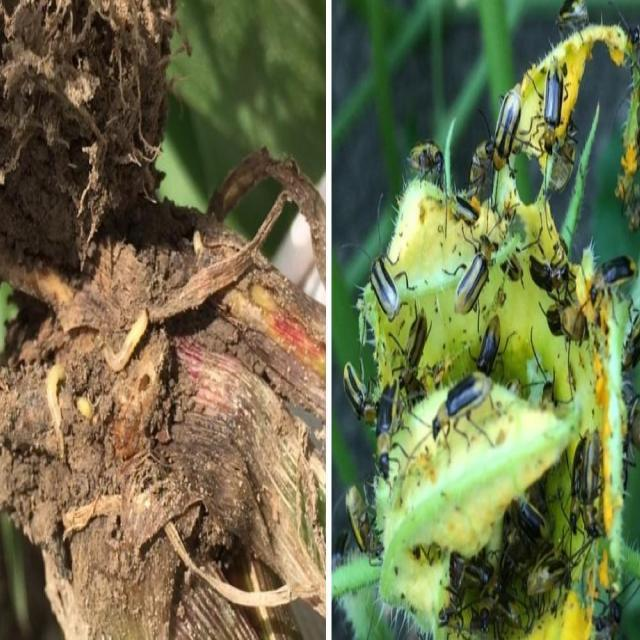trips: (530, 52, 578, 162), (432, 370, 495, 448), (356, 243, 414, 323), (373, 370, 405, 494), (342, 484, 386, 574), (392, 306, 438, 388), (452, 232, 496, 316), (337, 358, 383, 431), (490, 87, 522, 175), (527, 552, 584, 601), (448, 538, 499, 592), (588, 252, 640, 299), (564, 432, 588, 530), (506, 493, 554, 541), (546, 299, 592, 346), (526, 251, 571, 297), (408, 140, 449, 190), (584, 434, 602, 542), (473, 316, 504, 376), (621, 378, 640, 469), (450, 191, 484, 230), (479, 564, 497, 630)
